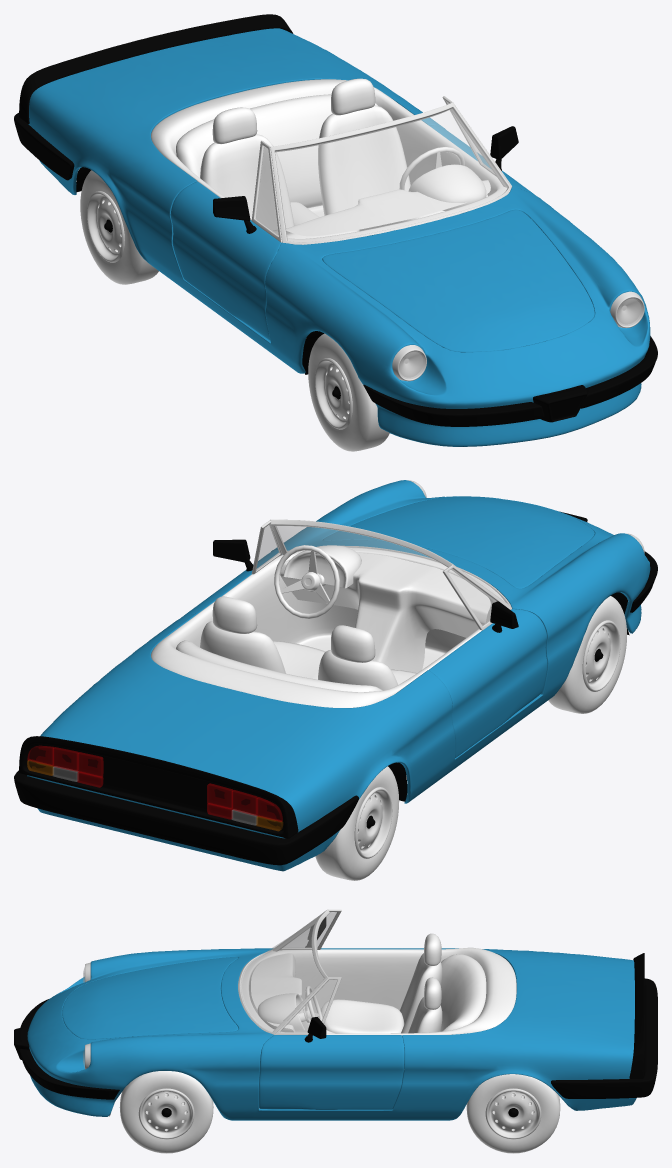
File: blue_car_1.glb
3 renders of one model, top to bottom at view 1: azimuth 30°, elevation 25°; view 2: azimuth 150°, elevation 25°; view 3: azimuth 270°, elevation 25°, orthographic. The views are drawn at different scales.
Parts seen in each view (by area): view 1: Car Model.001, Circle.049, Circle.040, Plane.029, Circle.034, Circle.045, Circle.052, Circle.037, Circle.039, Circle.050, Circle.033, Circle.036 (+10 smaller); view 2: Car Model.001, Circle.045, Circle.049, Circle.039, Circle.050, Circle.034, Circle.038, Plane.029, Plane.026, Circle.047, Circle.033, Circle.040 (+11 smaller); view 3: Car Model.001, Circle.034, Circle.049, Circle.045, Circle.040, Circle.033, Circle.047, Circle.038, Plane.029, Circle.052, Plane.028, Circle.048 (+9 smaller).
Boxes of the visible parts, box(x1,y1,x2,y2) form: Car Model.001: box(28, 28, 650, 446); Circle.049: box(322, 209, 594, 352); Circle.040: box(275, 108, 507, 241); Plane.029: box(200, 78, 410, 230); Circle.034: box(170, 125, 535, 340); Circle.045: box(151, 79, 507, 241); Circle.052: box(176, 94, 377, 208); Circle.037: box(363, 336, 657, 426); Circle.039: box(19, 14, 293, 123); Circle.050: box(286, 180, 490, 238); Circle.033: box(308, 333, 389, 451); Circle.036: box(270, 102, 511, 244); Car Model.001: box(27, 480, 650, 871); Circle.045: box(151, 547, 504, 707); Circle.049: box(323, 496, 594, 588); Circle.039: box(19, 736, 298, 838); Circle.050: box(280, 552, 490, 672); Circle.034: box(181, 550, 547, 757); Circle.038: box(14, 770, 358, 865); Plane.029: box(200, 596, 397, 690); Plane.026: box(27, 746, 282, 831); Circle.047: box(315, 766, 399, 880); Circle.033: box(548, 596, 626, 713); Circle.040: box(276, 526, 505, 601); Car Model.001: box(27, 948, 636, 1120); Circle.034: box(259, 948, 404, 1109); Circle.049: box(62, 957, 238, 1039); Circle.045: box(240, 947, 516, 1035); Circle.040: box(241, 918, 323, 1031); Circle.033: box(119, 1071, 213, 1153); Circle.047: box(466, 1074, 560, 1153); Circle.038: box(551, 978, 657, 1098); Plane.029: box(400, 933, 442, 1033); Circle.052: box(440, 954, 486, 1031); Plane.028: box(321, 999, 404, 1033); Circle.048: box(485, 1088, 541, 1139).
Size of the model in its own units: 0.4582 by 0.3158 by 1.1.
